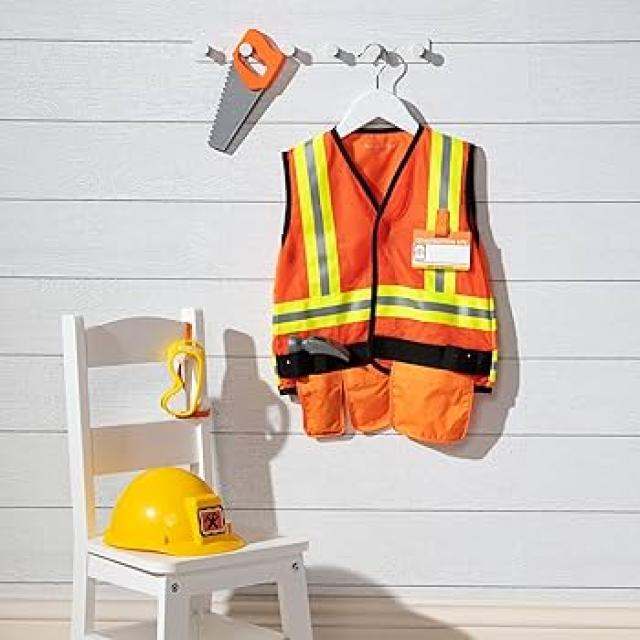Hard Hat: (80, 457, 270, 582)
Reflective Vest: (267, 110, 515, 382)
